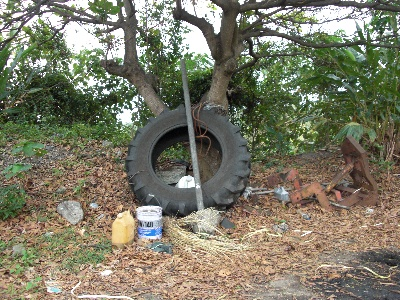bottle: (111, 209, 135, 245)
bucket: (134, 206, 168, 242)
tire: (125, 105, 255, 216)
